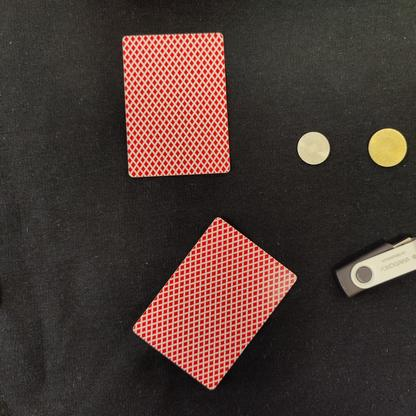card: (129, 212, 302, 392), (117, 28, 238, 180)
